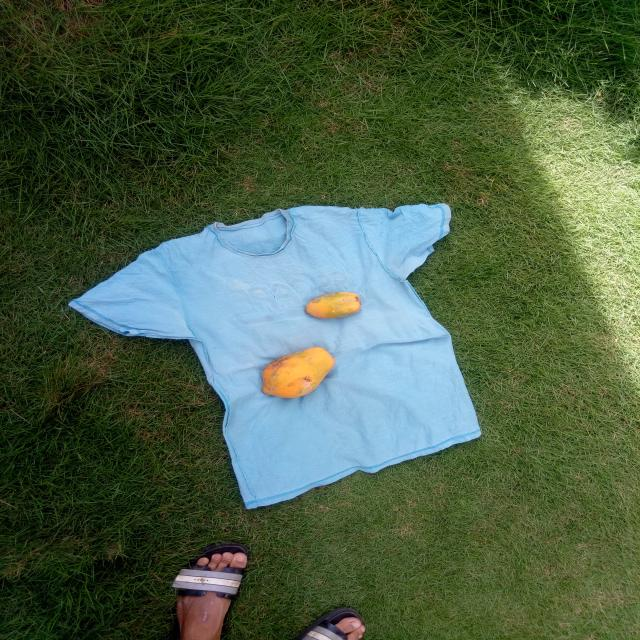Pepaya rippen: (262, 344, 332, 399), (306, 291, 366, 325)
